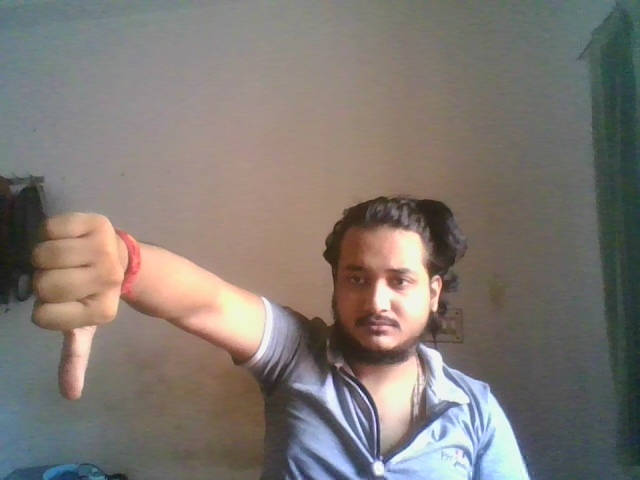ThumbsDown: (31, 211, 130, 405)
